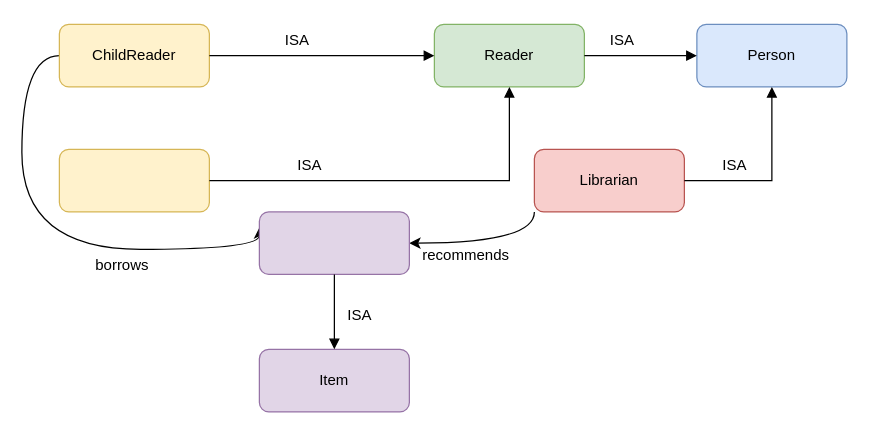
Image size: 869x434. Some labels were removed from this diagram. Each missing label, with the centre of its shape:
"AdultReader" goes at point (133, 180).
"Book" goes at point (333, 242).
